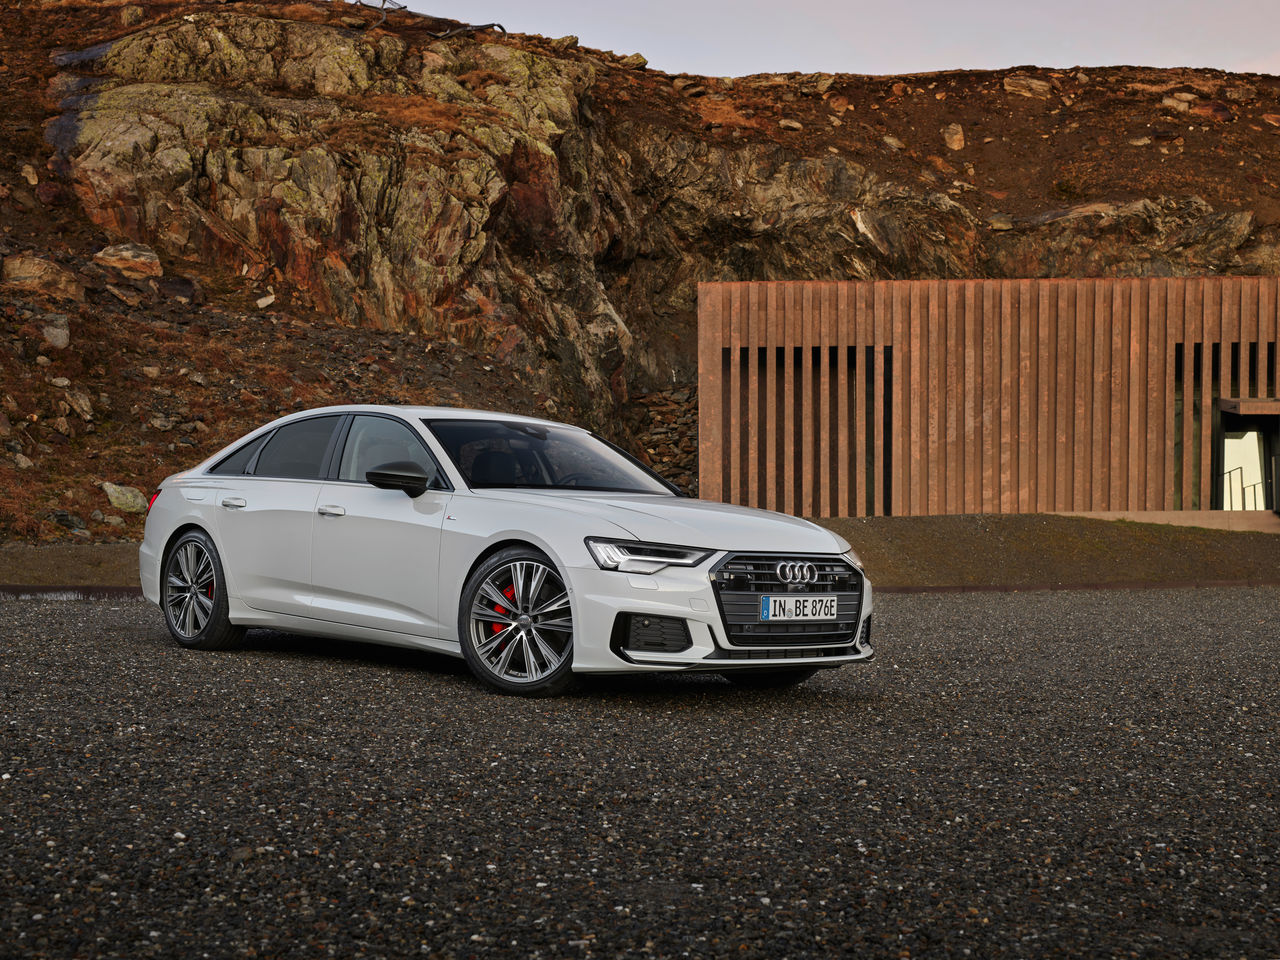car: (134, 406, 875, 701)
